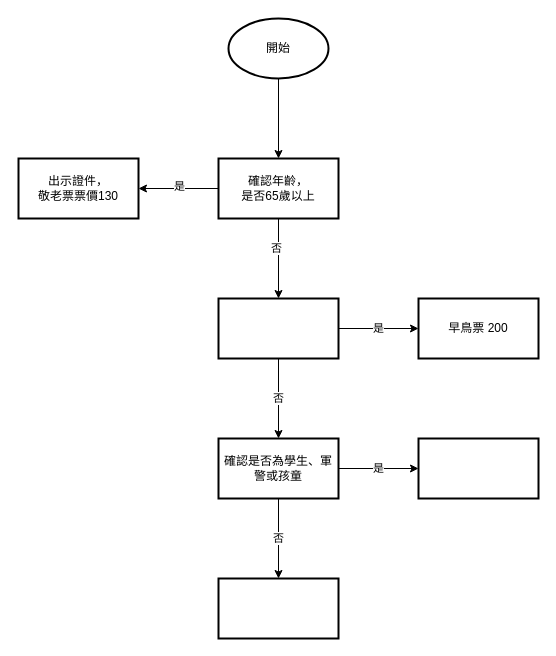
Some shapes in this 556 by 656 pixel diagram are drawn without their labels. The box of each missing label's shape, as (x1, y1, x2, y2) in pixels:
學生、軍警出示證件，孩童測量身高，優待票230: (417, 437, 539, 499)
成人票260: (217, 577, 339, 639)
確認入場時間， 是否在12點前: (217, 297, 339, 359)
